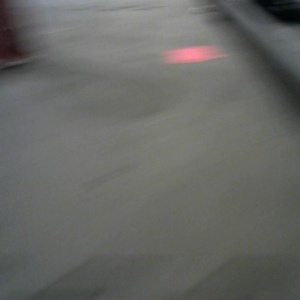right: (174, 1, 258, 68)
